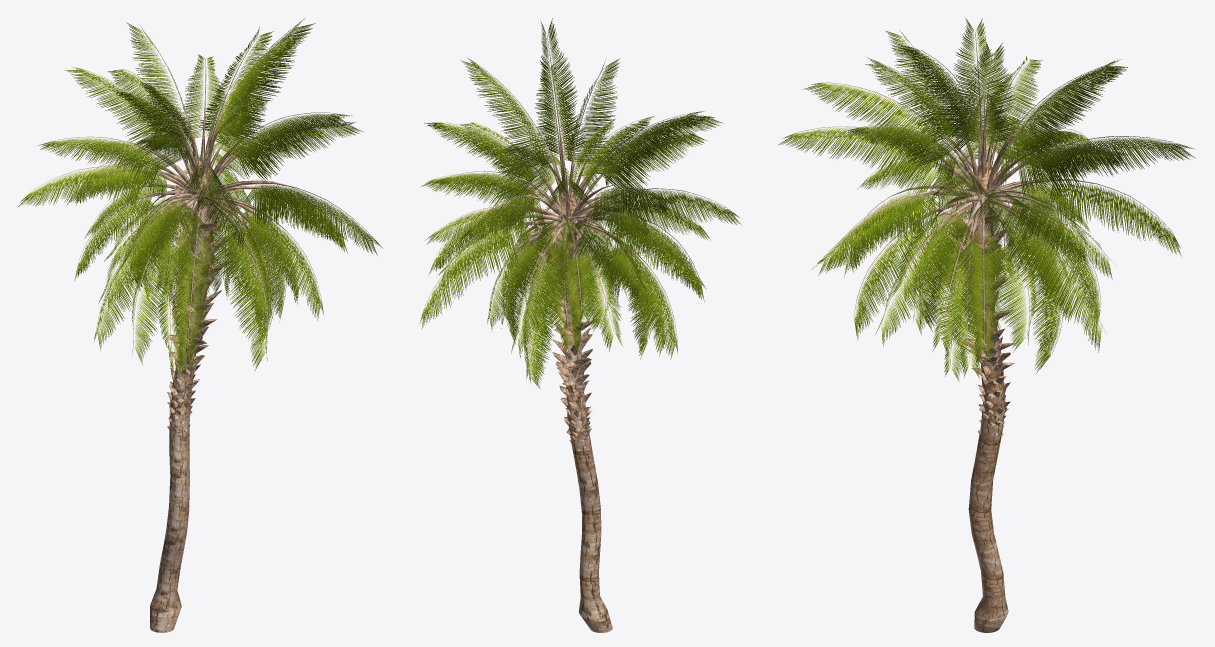
File: palm1.fbx
3 renders of one model, left to right at view 1: azimuth 30°, elevation 25°; view 2: azimuth 150°, elevation 25°; view 3: azimuth 270°, elevation 25°, orthographic. The views are drawn at different scales.
Visible parts, largest first — view 1: Tree_1, Tree_0; view 2: Tree_1, Tree_0; view 3: Tree_1, Tree_0.
Part boxes in pixels (x1,y1,x2,y2): Tree_1: (18,18,382,379); Tree_0: (108,97,292,632); Tree_1: (420,18,741,389); Tree_0: (480,118,653,632); Tree_1: (778,17,1195,381); Tree_0: (887,101,1094,632).
Size of the model in its own units: 5 by 9.83 by 6.
2 materials, 2 textured.
